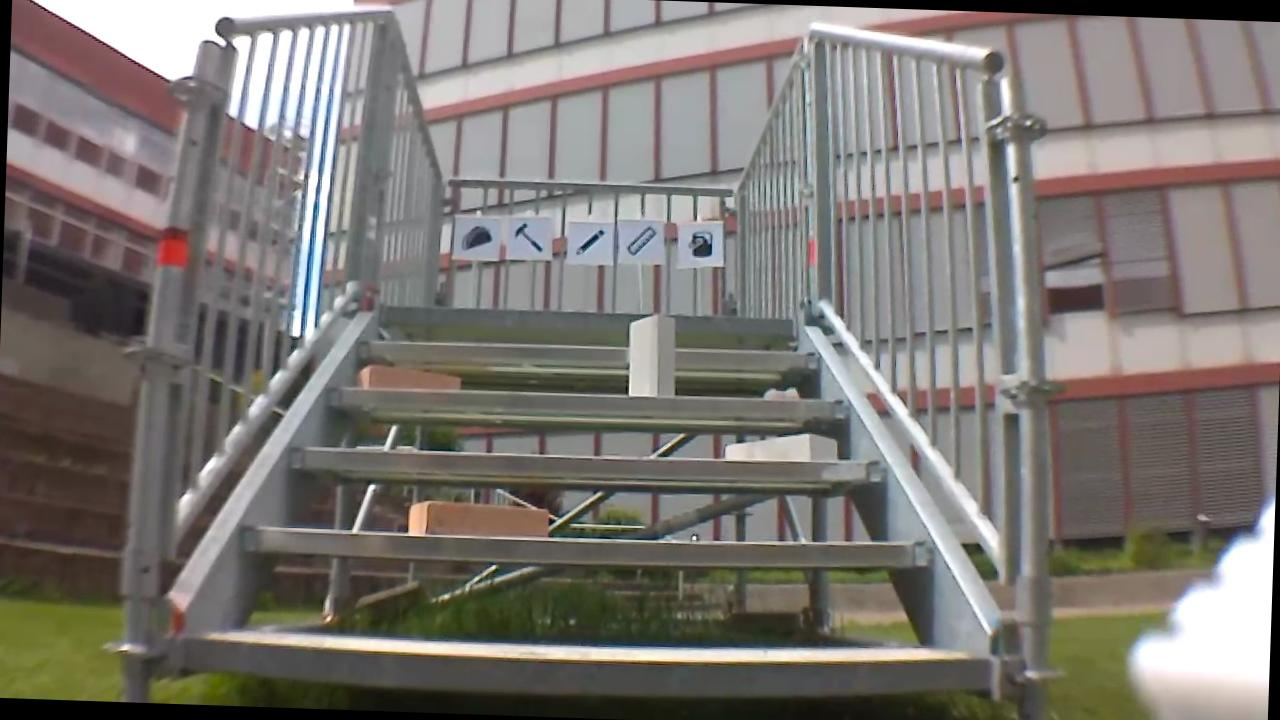brick: (409, 500, 547, 537), (628, 313, 675, 396), (726, 432, 836, 460), (356, 365, 457, 390)
bucket: (685, 226, 717, 263)
edge: (187, 628, 987, 702), (243, 519, 929, 574), (290, 440, 882, 485), (323, 381, 852, 423), (358, 335, 817, 370), (379, 302, 795, 336)
hammer: (510, 219, 547, 255)
pencil: (571, 226, 610, 259)
ruler: (624, 221, 658, 258)
steps: (180, 289, 1004, 706)
taco: (458, 222, 494, 254)
